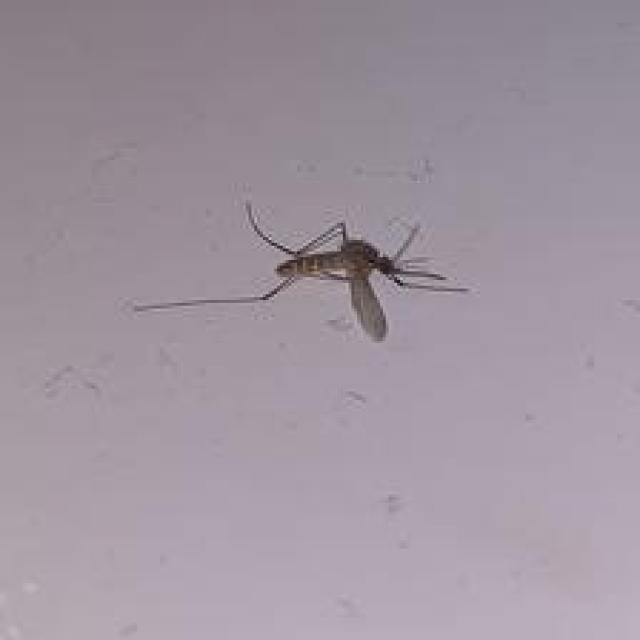Culex: (132, 199, 472, 344)
